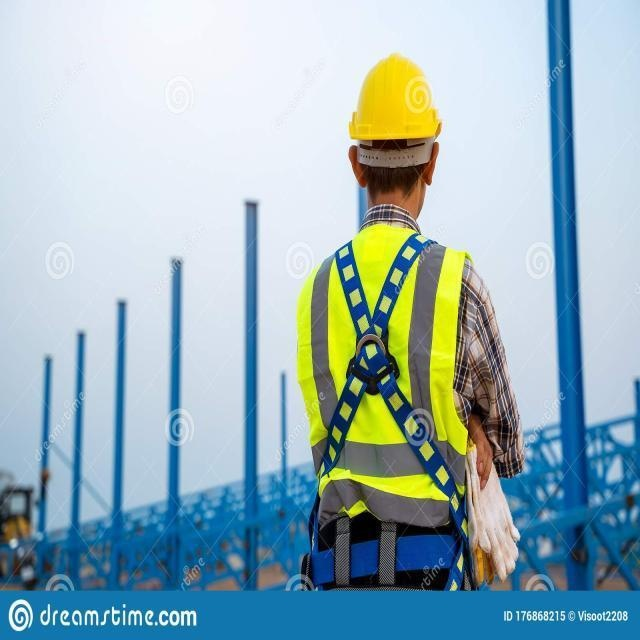Arnes_seguridad: (331, 224, 474, 605)
